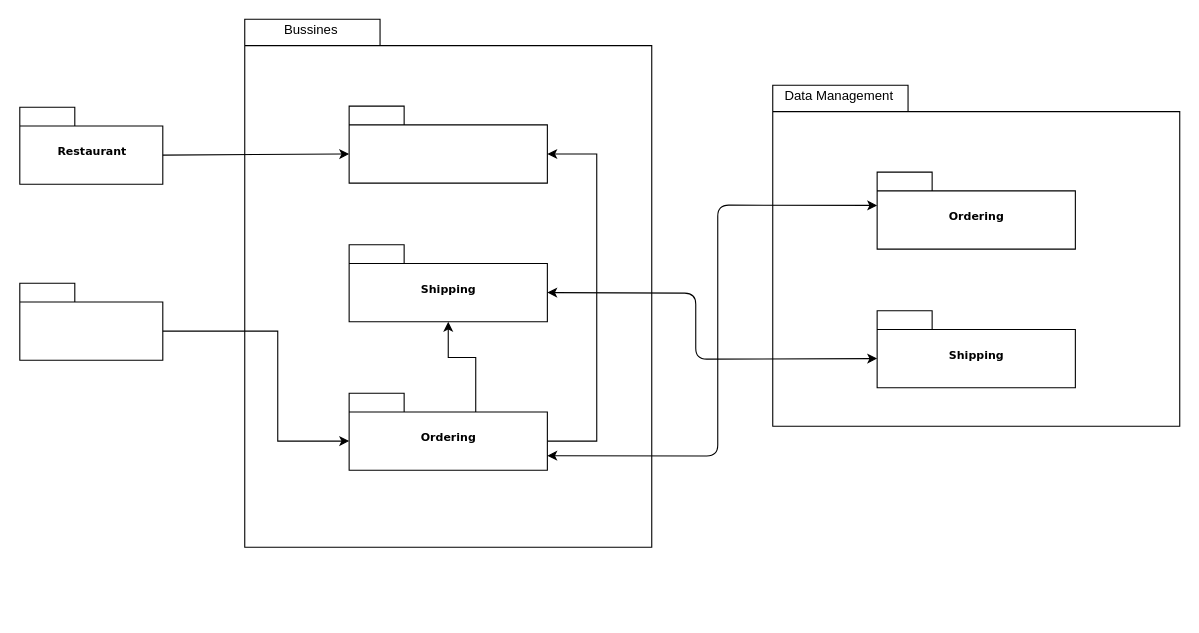
The diagram is 1199 pixels wide and 633 high, and some of its shapes have lost their labels. Here are the shapes that lost their labels. From the top down, the centre of each, then its label:
At pixel 447 144: "Accounting".
At pixel 91 321: "Client".
